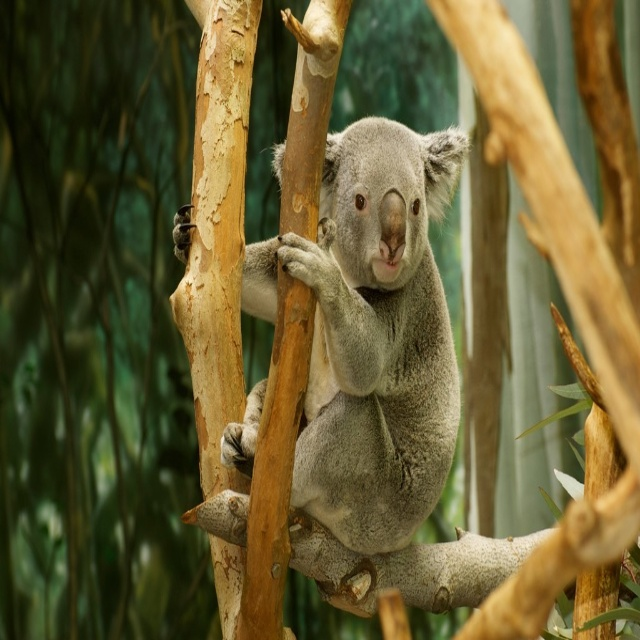Koala: (172, 112, 475, 556)
